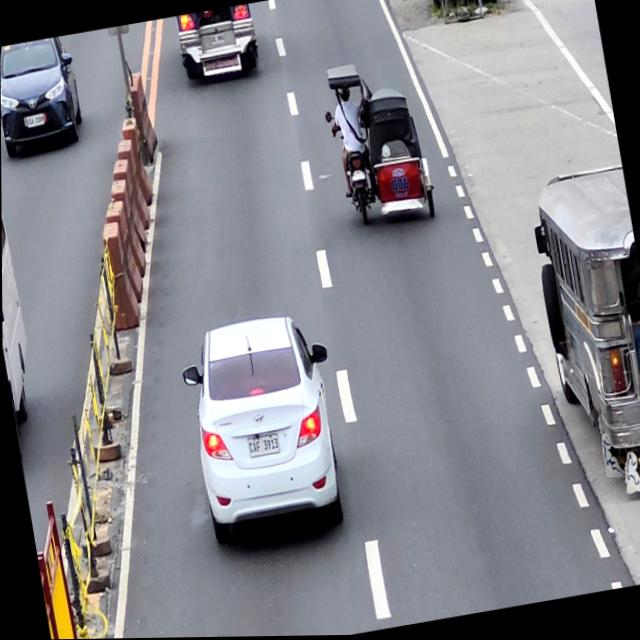Car: (173, 306, 356, 557)
Jeep: (523, 164, 640, 515), (176, 4, 263, 84)
License-Plate: (245, 434, 280, 460), (208, 33, 226, 47), (351, 170, 366, 182)
Tricycle: (318, 55, 439, 236)
